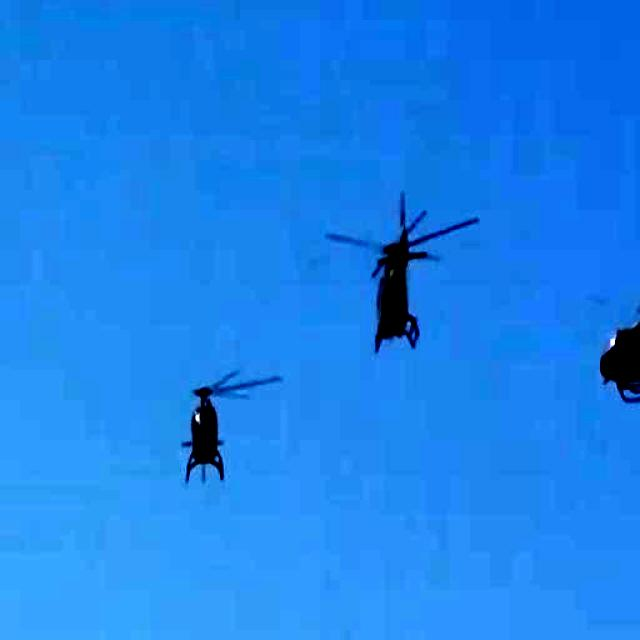drone: (338, 164, 479, 395), (560, 246, 640, 431), (170, 348, 244, 492)
